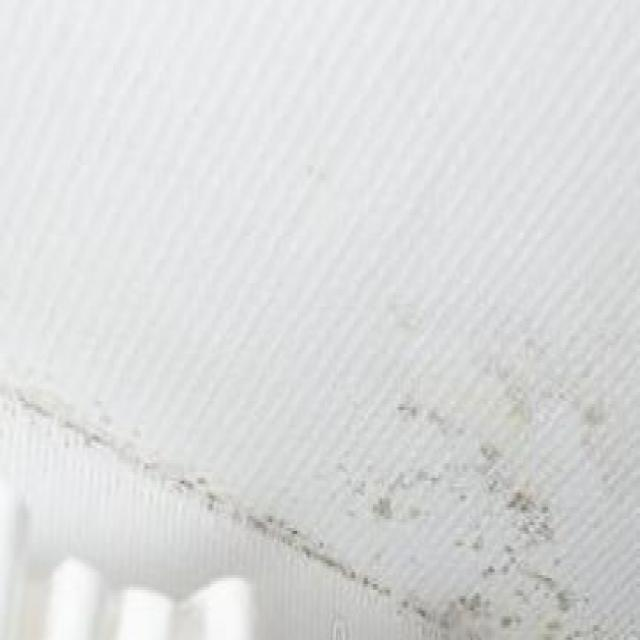leak: (6, 332, 640, 640)
